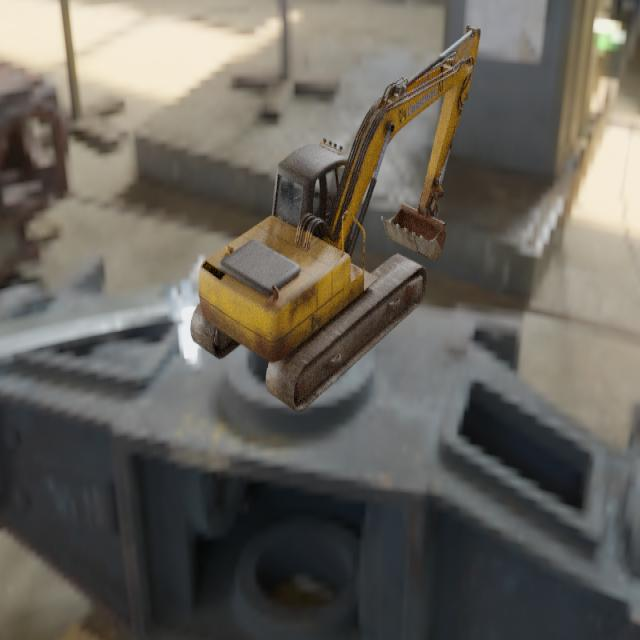excavator: (189, 23, 481, 412)
